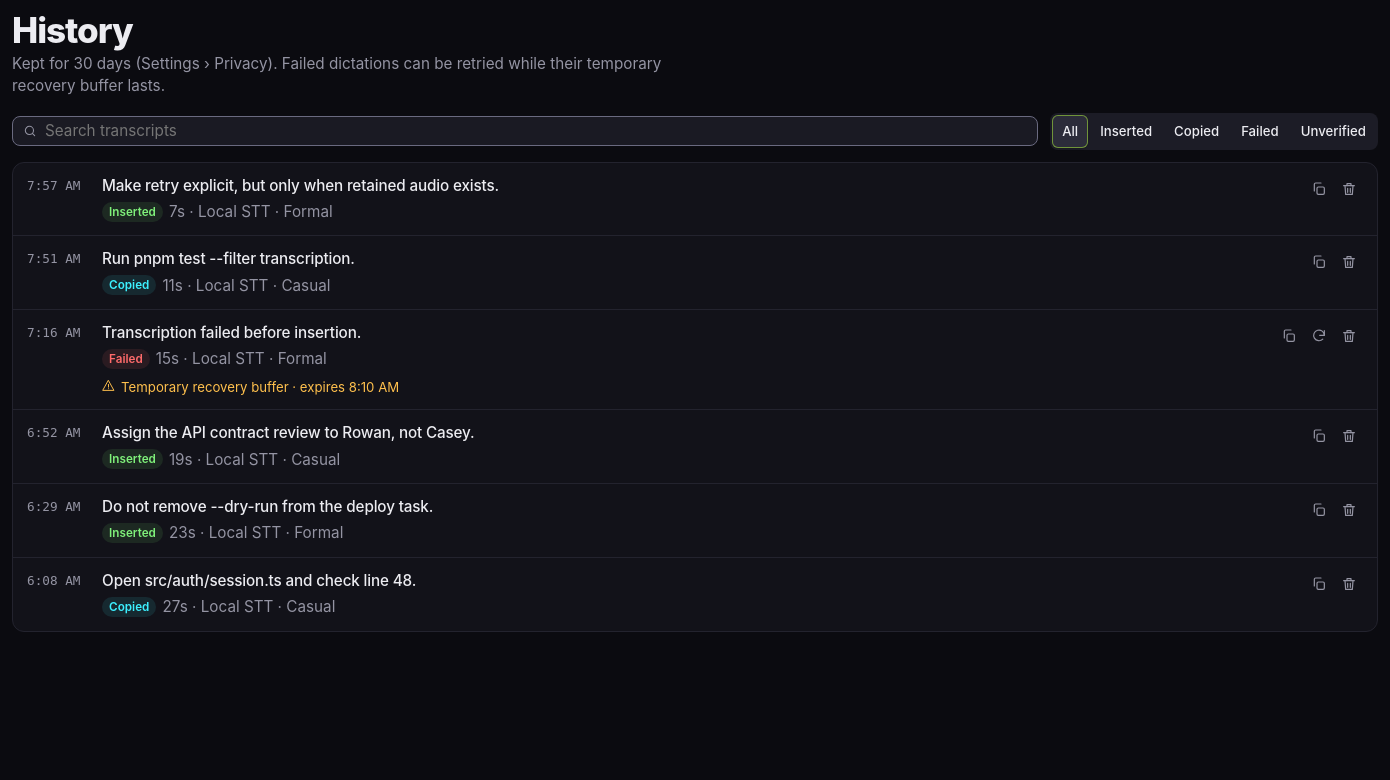
History › filters records and offers Retry only before expiry
This screenshot has width=1390, height=780.
Expected: the button named "Retry transcription" is shown, [1305,322,1333,350]
Expected: the text "Temporary recovery buffer · expires 8:10 AM" is shown, [102,379,399,395]
Click the radio button labelled "Failed" at coordinates (1260, 131), box [1231,115,1289,148]
Wait 1000 ms
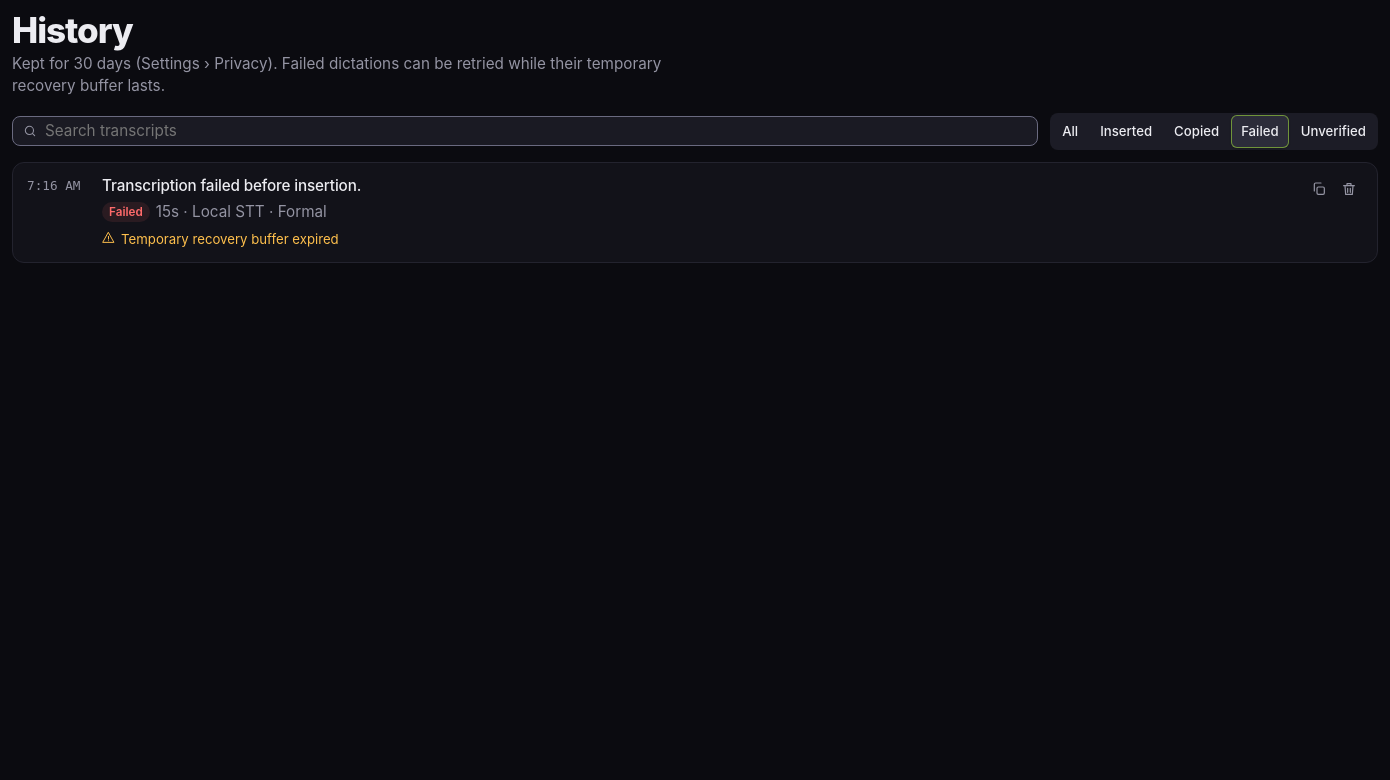
Expected: the text "Temporary recovery buffer expired" is shown, [102,231,339,247]
